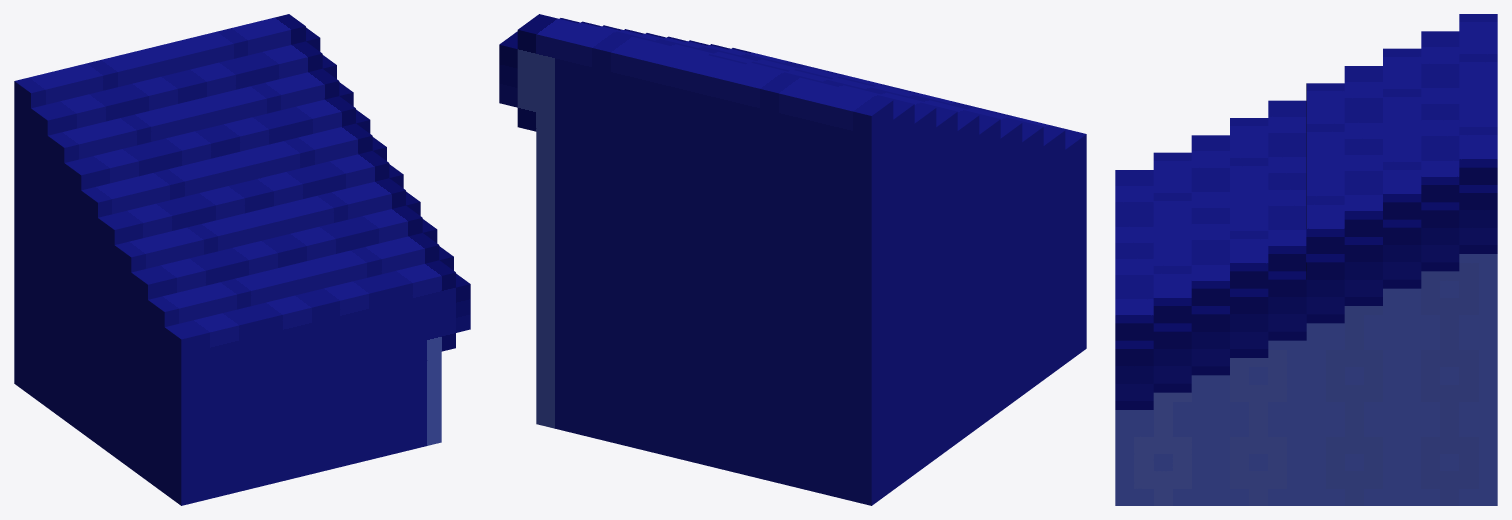
Rendered from half_ramp_full_right.glb.
The picture shows the model from 3 angles, left to right: view 1: azimuth 30°, elevation 25°; view 2: azimuth 150°, elevation 25°; view 3: azimuth 270°, elevation 25°; orthographic projection. The views are drawn at different scales.
Parts seen in each view (by area): view 1: half_ramp_full_right; view 2: half_ramp_full_right; view 3: half_ramp_full_right.
Part boxes in pixels (x1=…): half_ramp_full_right: x1=14, y1=14, x2=470, y2=505; half_ramp_full_right: x1=499, y1=14, x2=1086, y2=505; half_ramp_full_right: x1=1115, y1=14, x2=1497, y2=505.
Bounding box in the file's own units: 2 × 2 × 2.
Materials: 1 (1 with a texture image).
